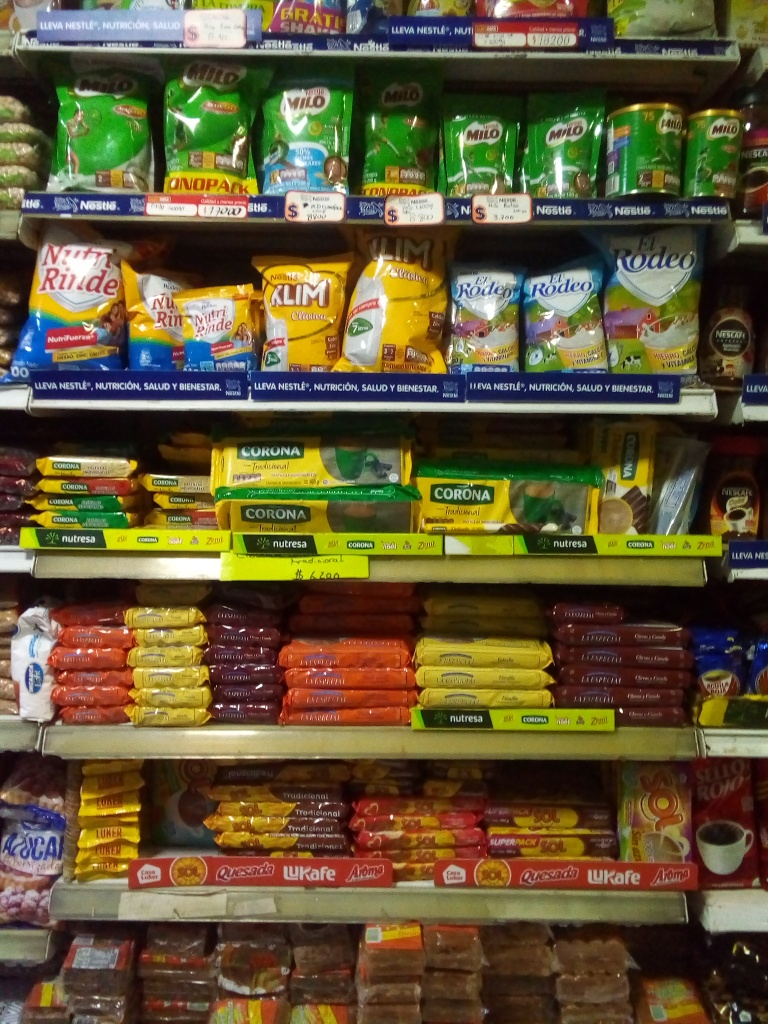COL0170203DYP10000: (441, 90, 518, 200)
COL0170203LAT20000: (687, 107, 739, 201)
COL0170203LAT40000: (605, 105, 687, 206)
